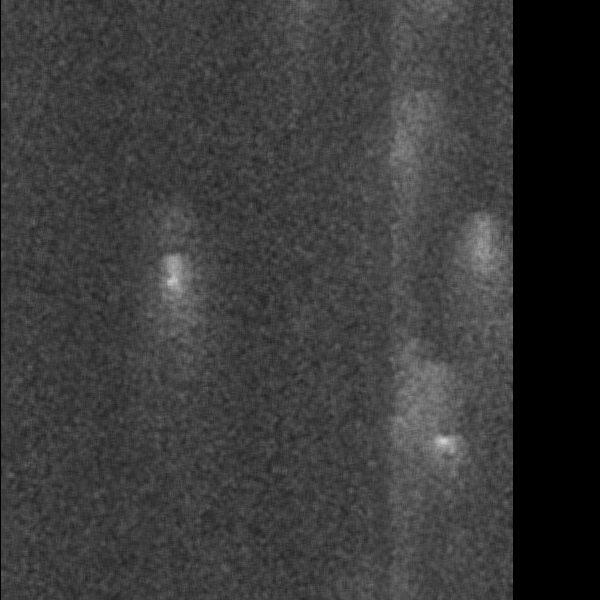spark: (452, 199, 510, 407), (155, 238, 189, 347), (422, 428, 467, 468)
